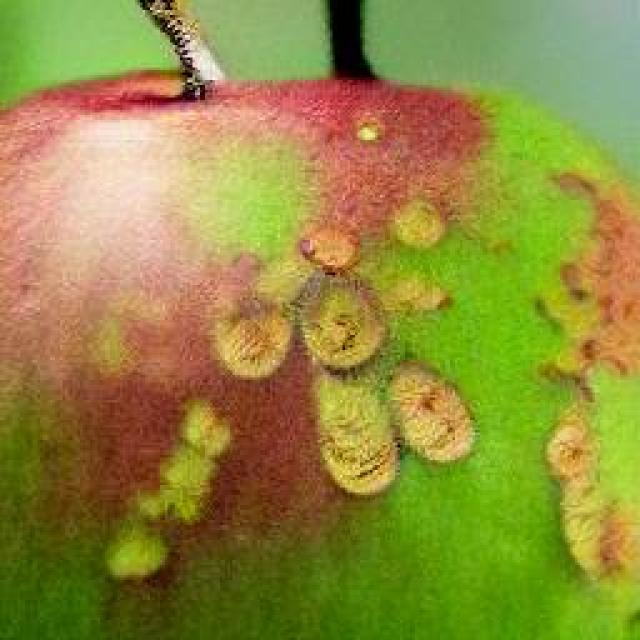defective: (0, 0, 638, 612)
